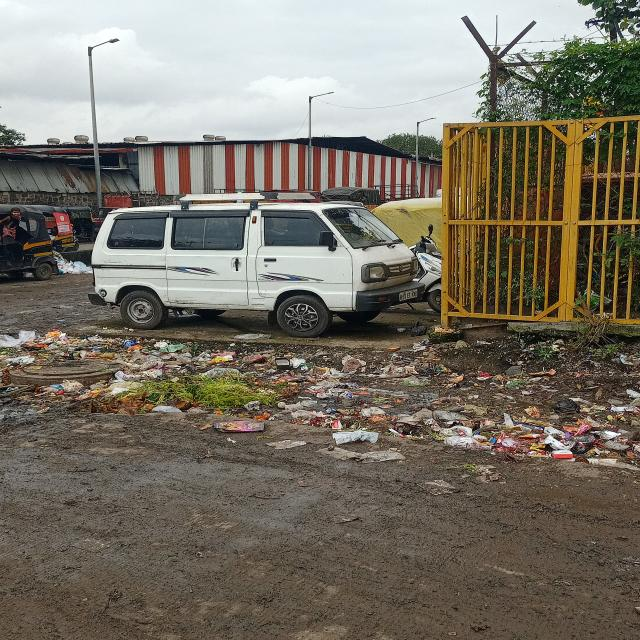garbage: (267, 350, 635, 472), (1, 332, 297, 421)
